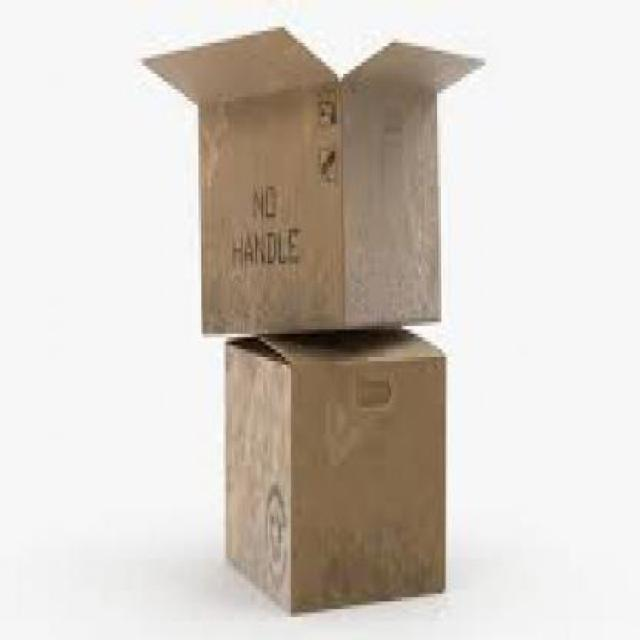PaperCardboard: (139, 25, 463, 332), (223, 340, 451, 615)
